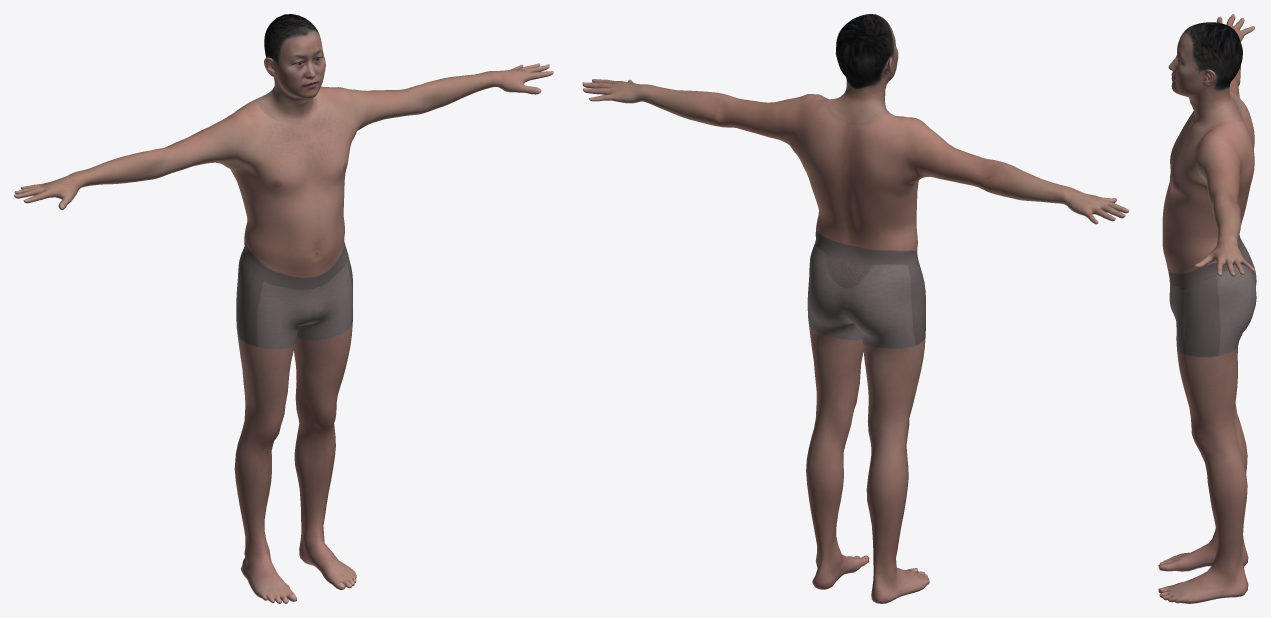
Rendered from full_body.obj.
3 renders of one model, left to right at view 1: azimuth 30°, elevation 25°; view 2: azimuth 150°, elevation 25°; view 3: azimuth 270°, elevation 25°, orthographic.
Size of the model in its own units: 1.86 by 1.86 by 0.2966.
1 material, 1 textured.
